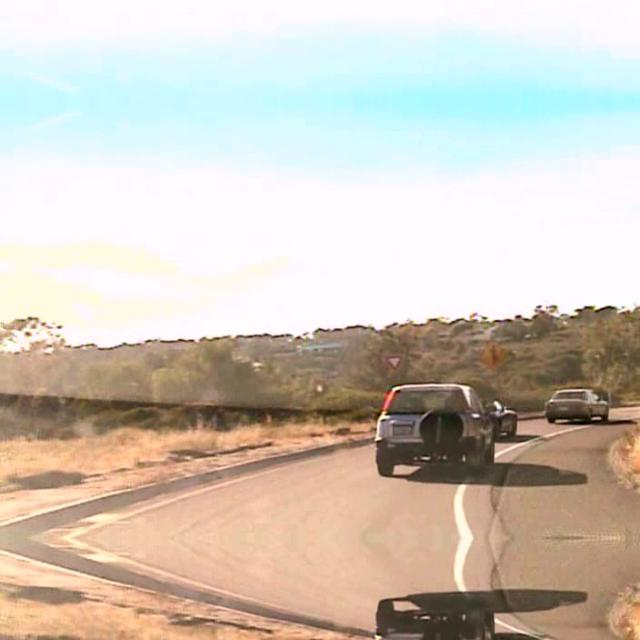yield: (384, 353, 402, 369)
